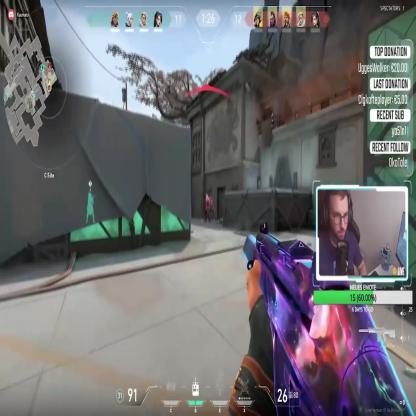enemy: (203, 192, 211, 225)
enemy_head: (206, 193, 208, 198)
